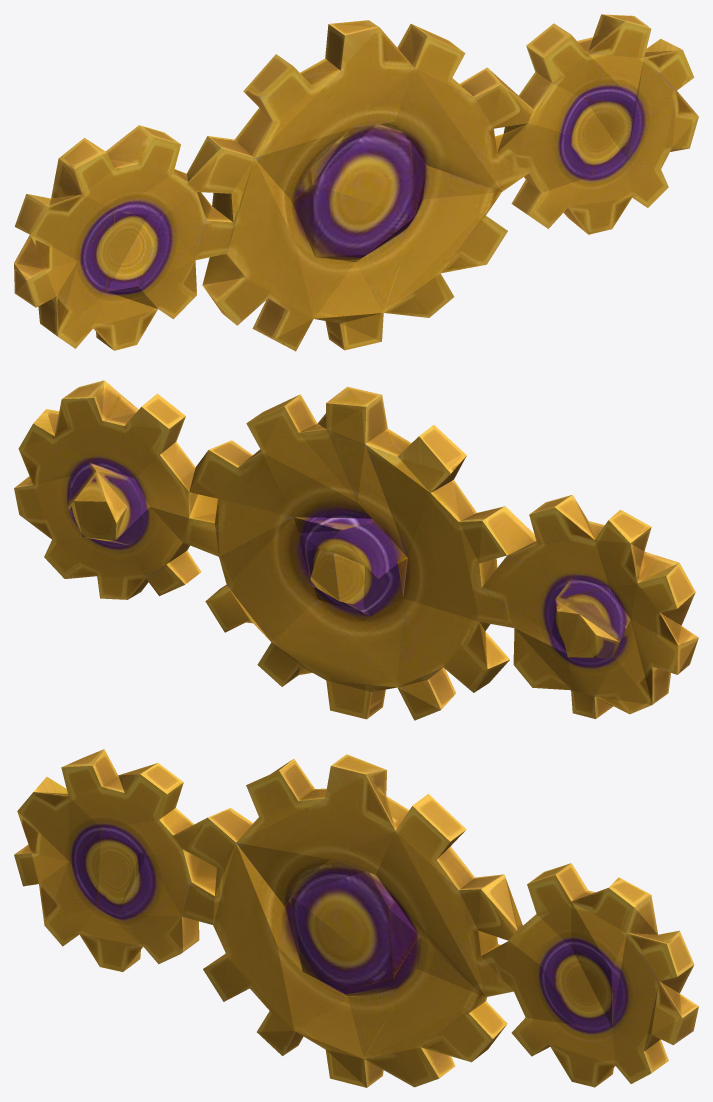
File: pilha-de-engrenagens.glb
3 renders of one model, top to bottom at view 1: azimuth 30°, elevation 25°; view 2: azimuth 150°, elevation 25°; view 3: azimuth 330°, elevation 25°, orthographic.
Parts seen in each view (by area): view 1: Mesh_0; view 2: Mesh_0; view 3: Mesh_0.
Boxes of the visible parts, x1=… form: Mesh_0: x1=14, y1=14, x2=698, y2=351; Mesh_0: x1=14, y1=380, x2=698, y2=720; Mesh_0: x1=14, y1=749, x2=698, y2=1087.
Size of the model in its own units: 1.9 by 0.8512 by 0.1771.
1 material, 1 textured.
